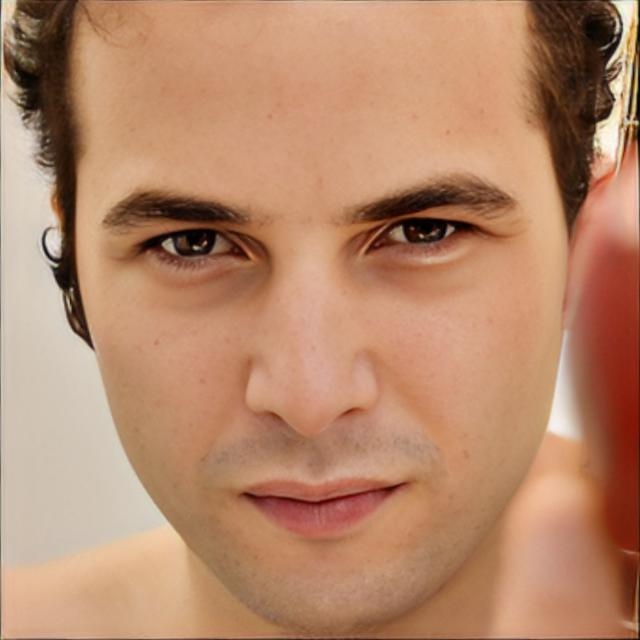content: (74, 0, 573, 639)
